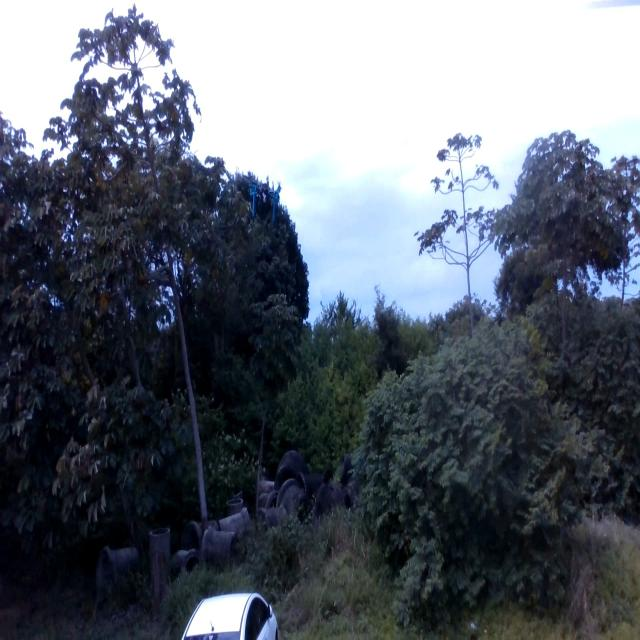-uav-: (234, 161, 293, 229)
